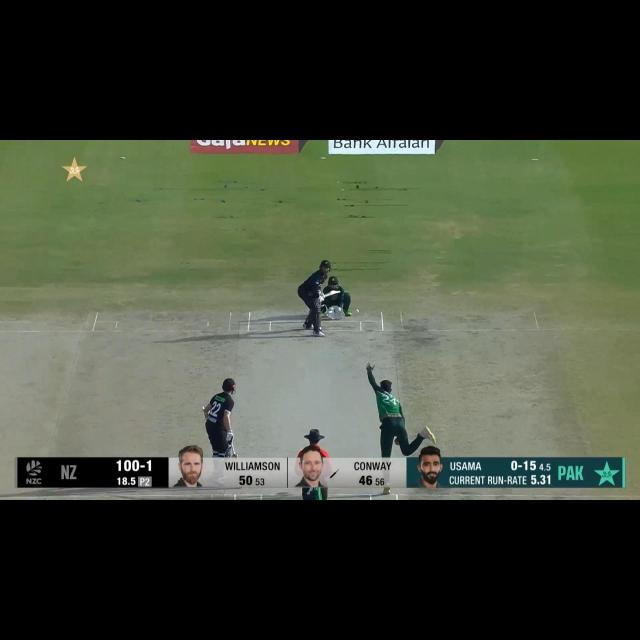bat: (320, 287, 342, 299), (231, 454, 238, 459)
toe: (335, 290, 342, 294)
